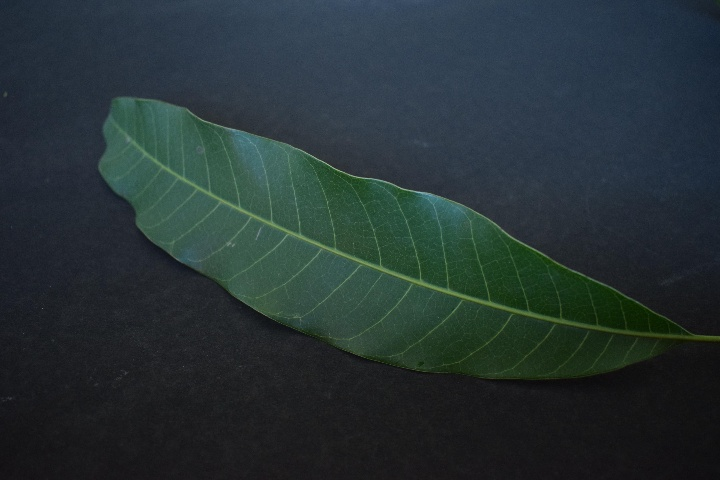healthy: (108, 94, 687, 394)
